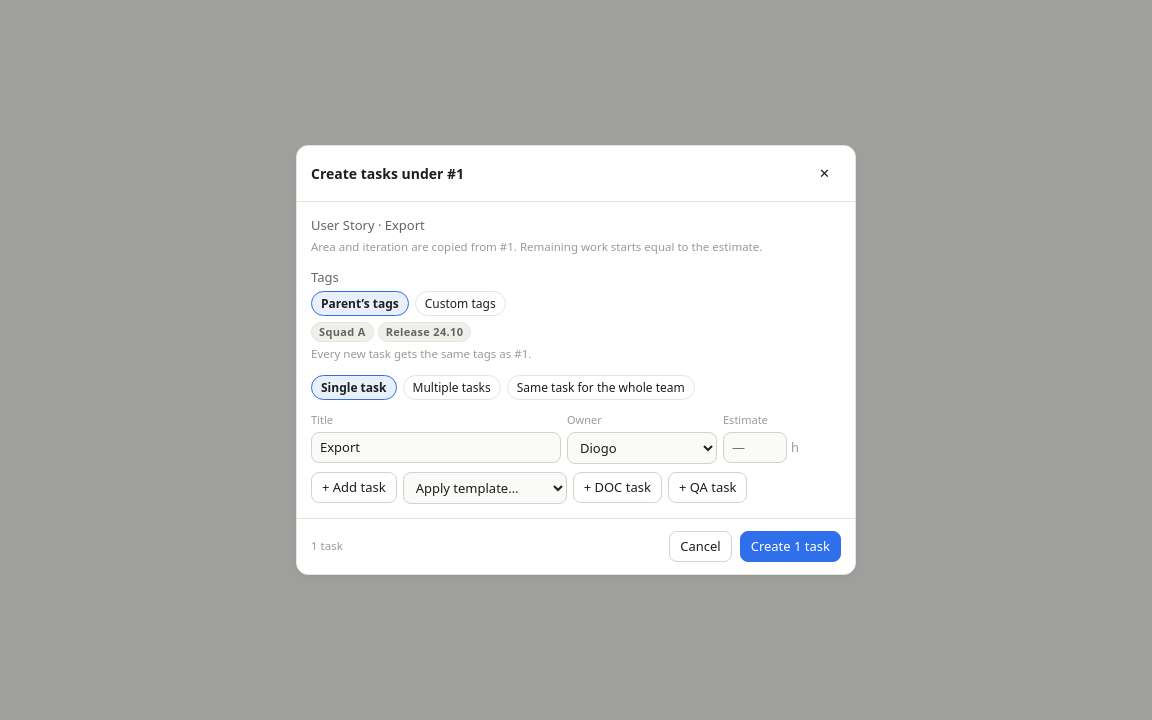
CreateTasksDialog › when TFS refuses some, only those are offered again, with the reason
Select "DEV + VAL (DEV, VAL)" in the dropdown named "Apply template" at (485, 488), box [403,472,567,504]
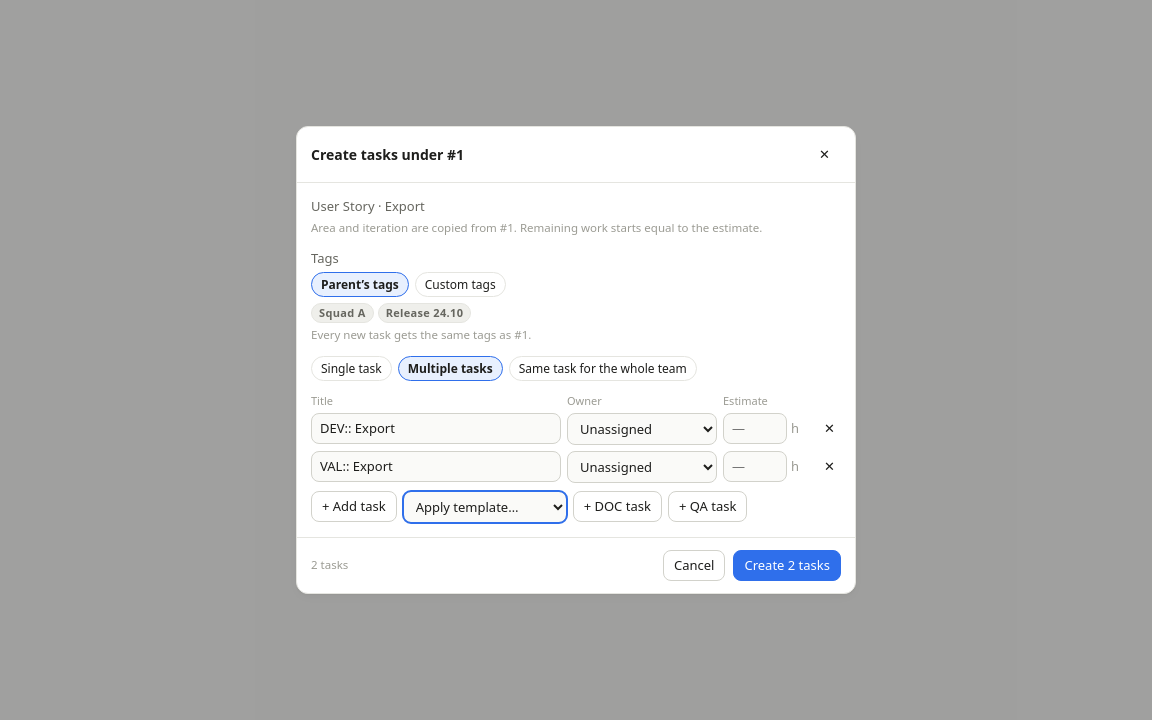
Click the button "Create 2 tasks" at (787, 565), box [733,550,841,581]
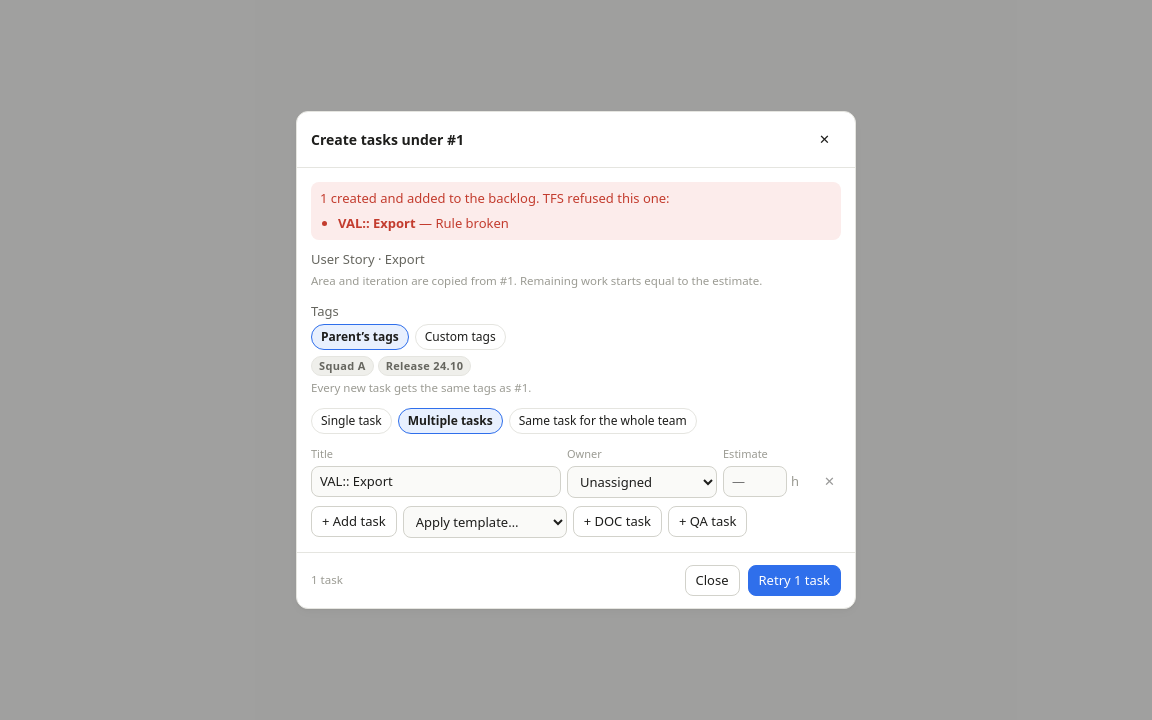
Expected: the text "VAL:: Export" is shown, [338,214,416,232]
Expected: the list item "VAL:: Export — Rule broken" is shown, [338,214,509,232]
Expected: the button "Retry 1 task" is shown, [748,565,841,596]
